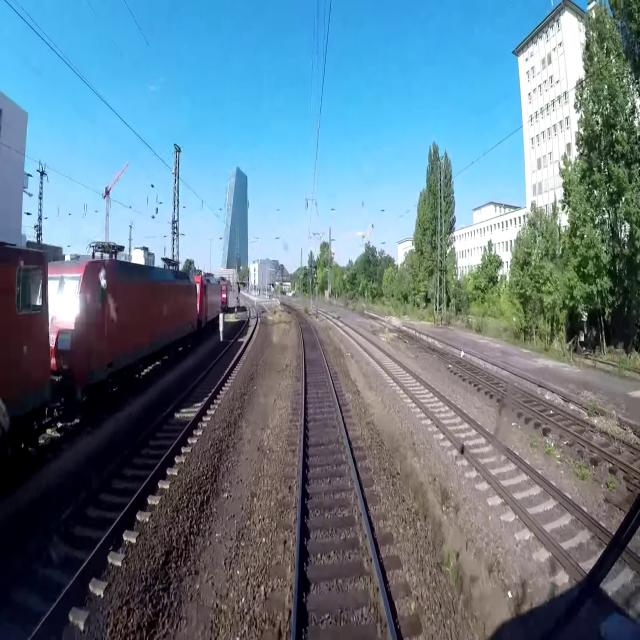rail-track: (0, 303, 255, 636), (341, 324, 606, 569), (293, 310, 391, 639), (416, 340, 640, 468)
